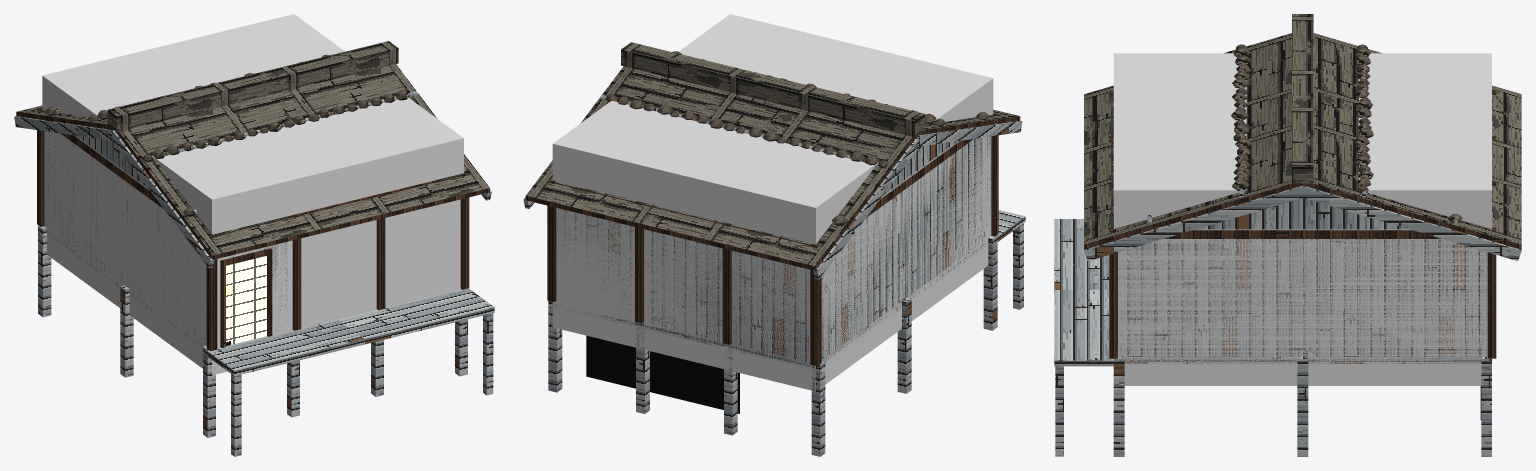
The model's file is JP_Poor_Boathouse_A.glb.
The picture shows the model from 3 angles, left to right: view 1: azimuth 30°, elevation 25°; view 2: azimuth 150°, elevation 25°; view 3: azimuth 270°, elevation 25°; orthographic projection. The views are drawn at different scales.
Visible parts, largest first — view 1: COL_JP_Poor_Boathouse_A, JP_Poor_Boathouse_A; view 2: COL_JP_Poor_Boathouse_A, JP_Poor_Boathouse_A; view 3: COL_JP_Poor_Boathouse_A, JP_Poor_Boathouse_A.
Part boxes in pixels (x1,y1,x2,y2): COL_JP_Poor_Boathouse_A: (42,14,463,375); JP_Poor_Boathouse_A: (14,41,494,456); COL_JP_Poor_Boathouse_A: (552,14,993,391); JP_Poor_Boathouse_A: (523,42,1025,456); COL_JP_Poor_Boathouse_A: (1113,53,1491,385); JP_Poor_Boathouse_A: (1054,14,1521,456).
Bounding box in the file's own units: 6.7 × 6.04 × 8.65.
Materials: 7 (7 with a texture image).
